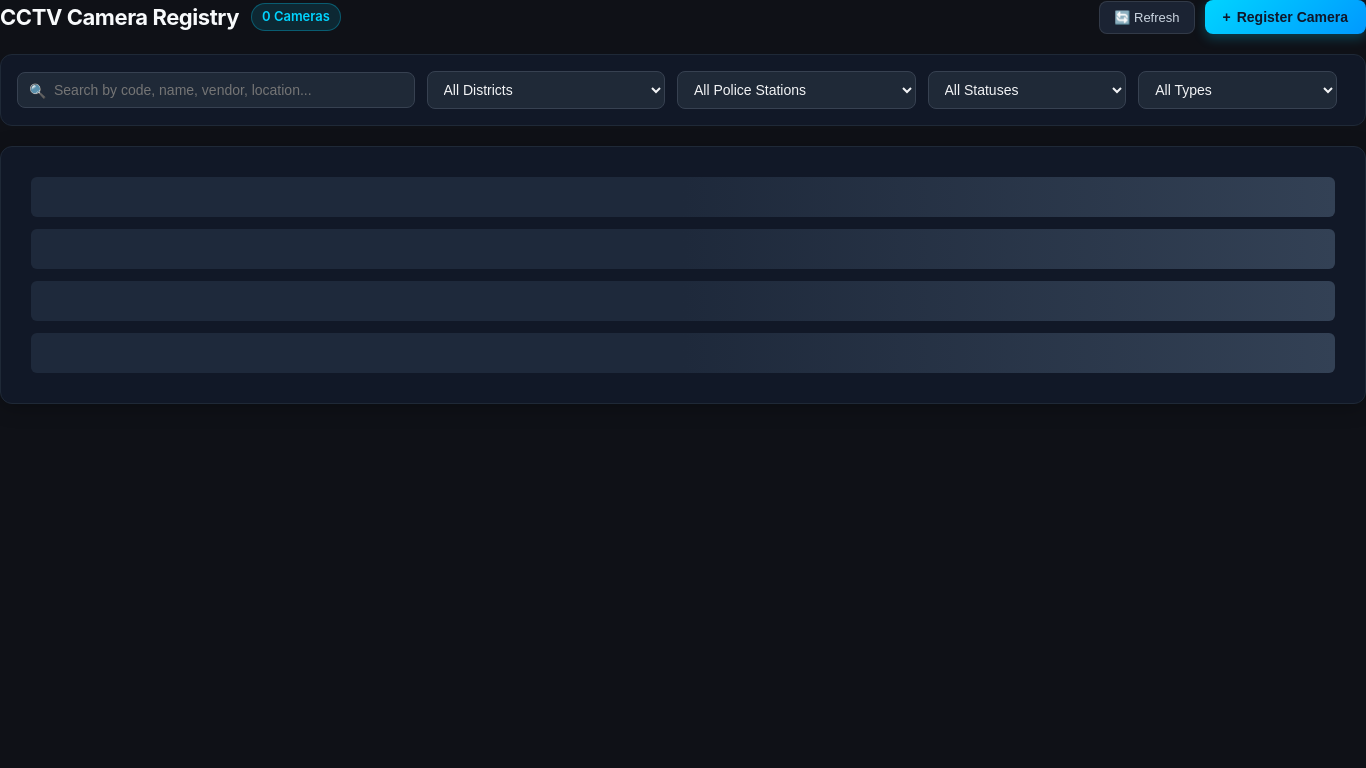
Scenario: CamerasPage › should validate form and prevent submission on empty required fields
Click the button with id "add-camera-btn" at [1285, 17], box x1=1204 y1=0 x2=1365 y2=34
(page scrolled)
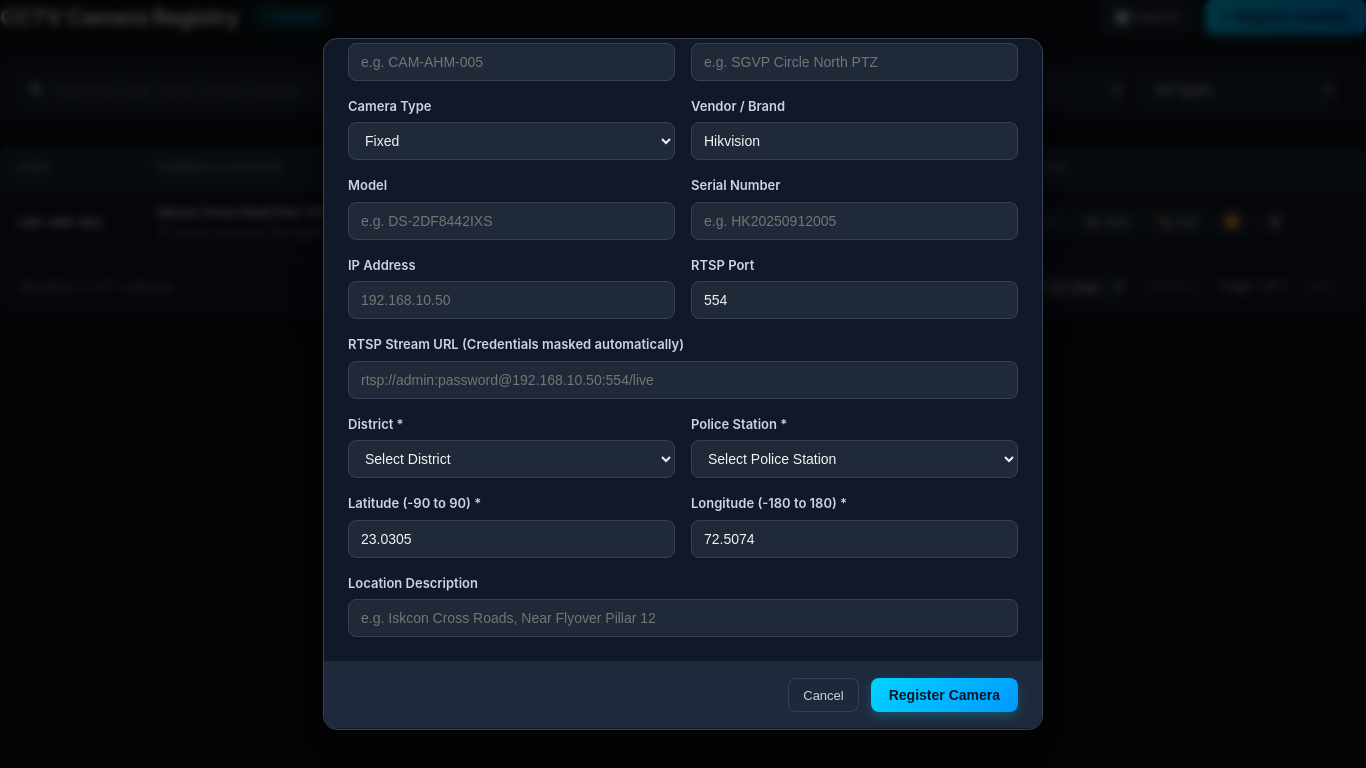
Click the button with id "save-camera-submit-btn" at [944, 695], box x1=871 y1=678 x2=1018 y2=712
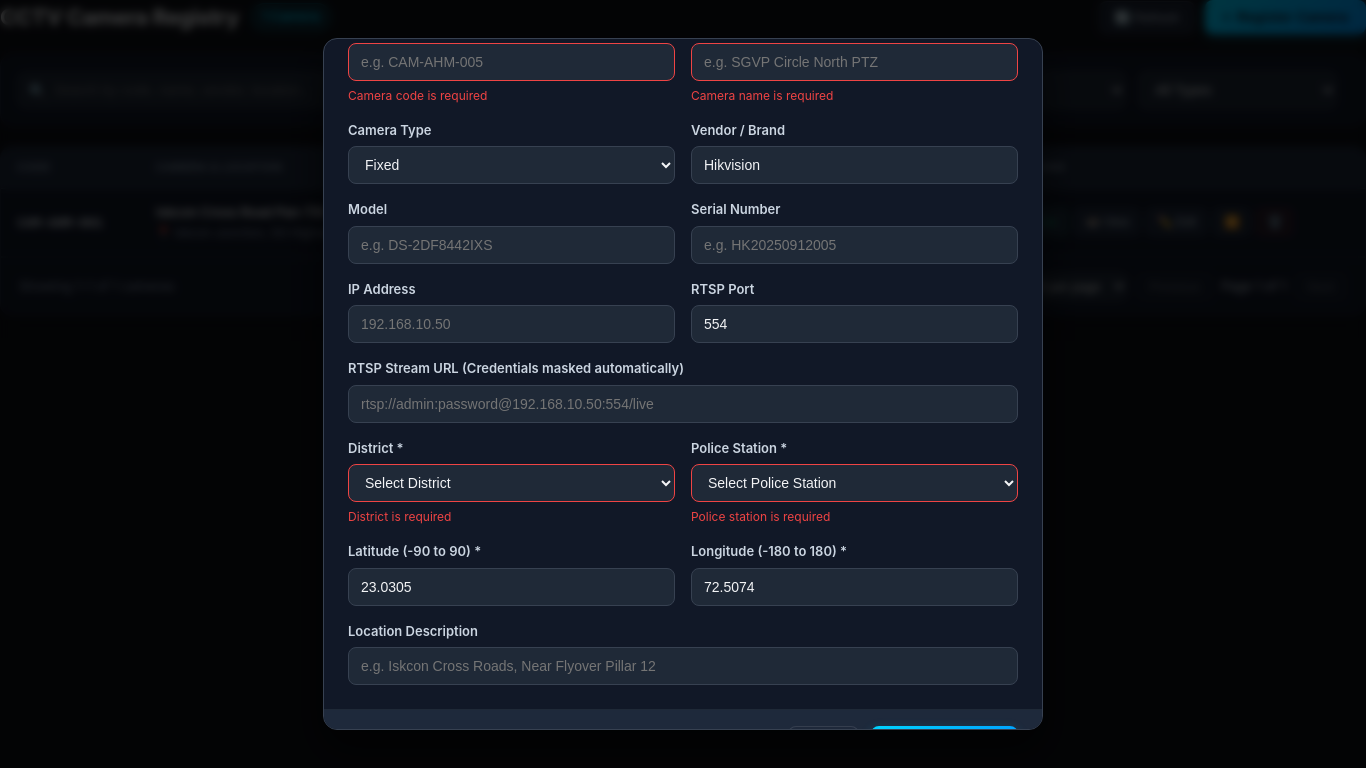
Expected: the text "Camera code is required" is shown, x1=348 y1=88 x2=487 y2=103
Expected: the text "Camera name is required" is shown, x1=691 y1=88 x2=833 y2=103
